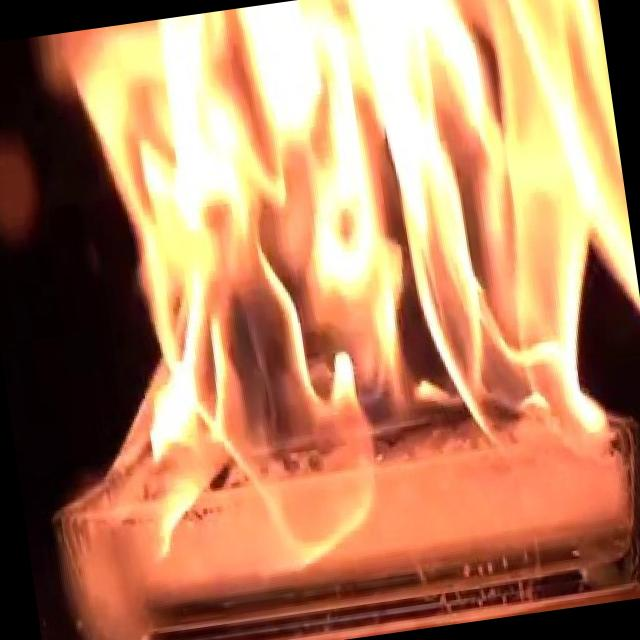Smoke: (33, 0, 640, 594)
